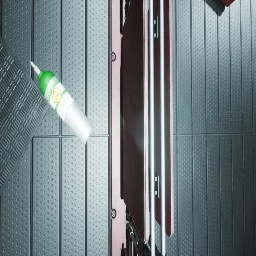0: (30, 61, 93, 146)
FirstAidBox ,: (220, 0, 235, 7)
